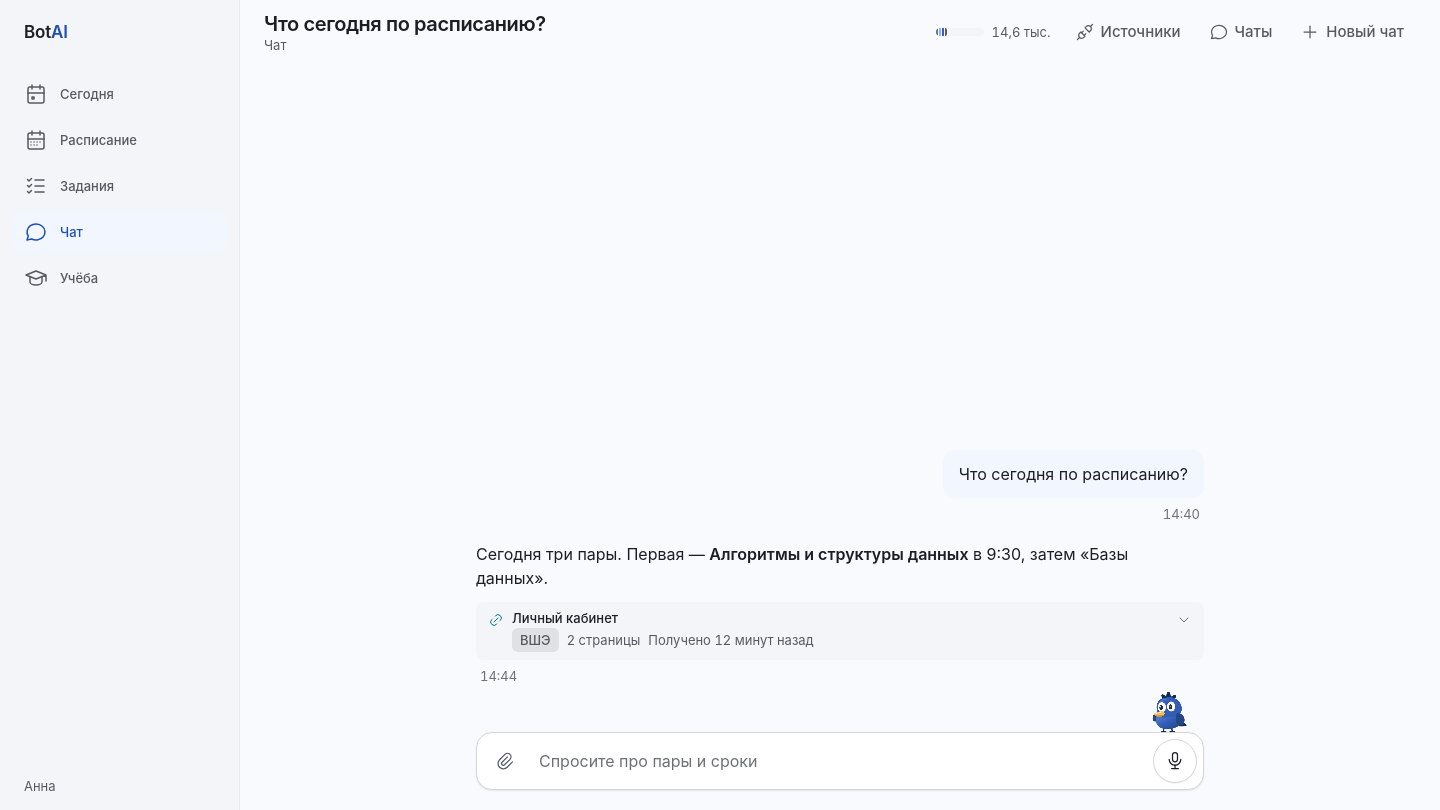
Test: чат на весь экран: шапка, история, источники ответа › шкала контекста в шапке: число из ответа сервера, шит с сегментами и источниками
Click the button with aria-label "Контекст агента: занято" at [993, 32], box [928,10,1059,54]
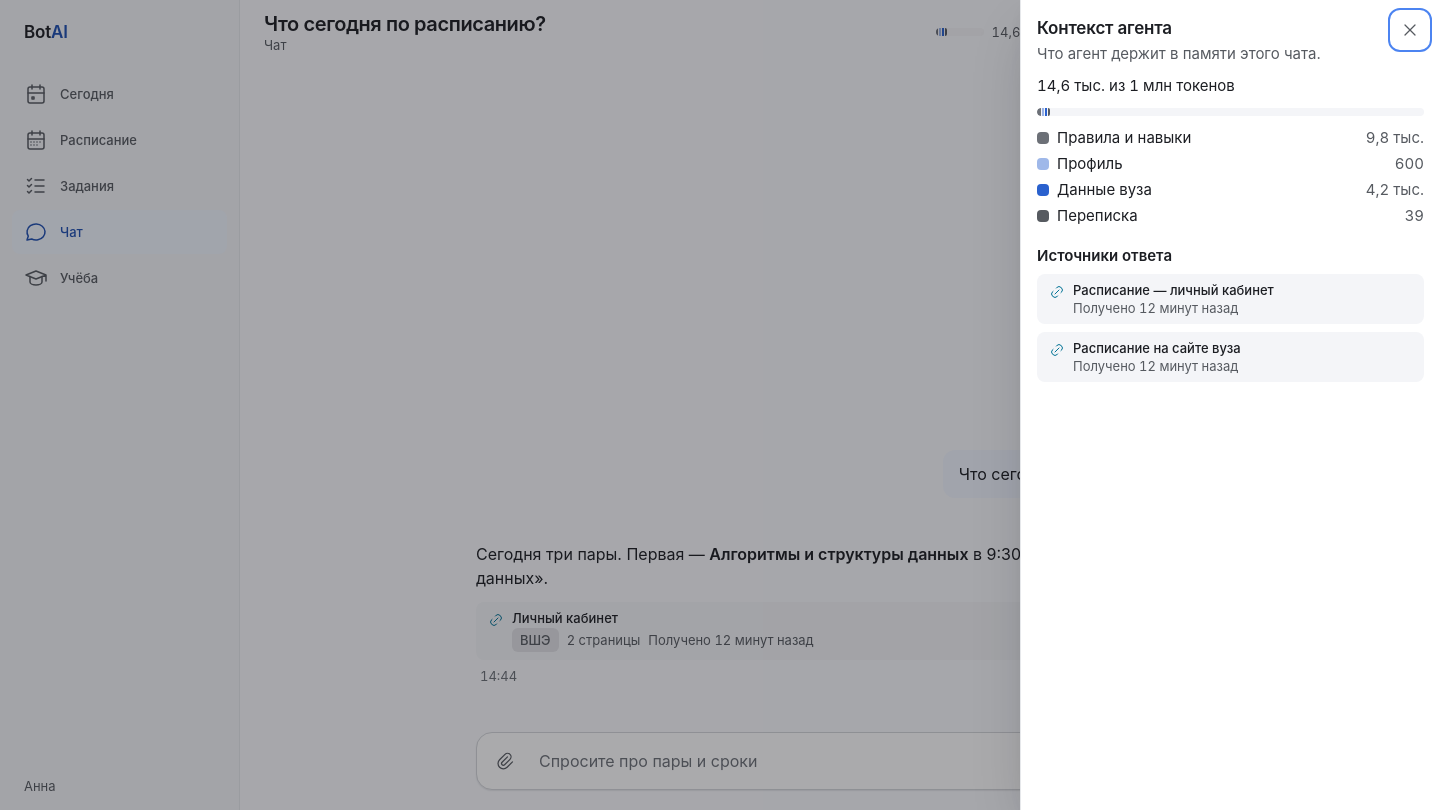
Now the list named "Из чего состоит контекст" is shown, box [1037,128,1424,226]
Now the text "Правила и навыки" is shown, box [1057,128,1191,147]
Now the text "Переписка" is shown, box [1057,206,1138,225]
